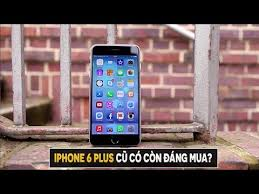iphone: (86, 42, 141, 150)
iphone6: (86, 41, 141, 149)
